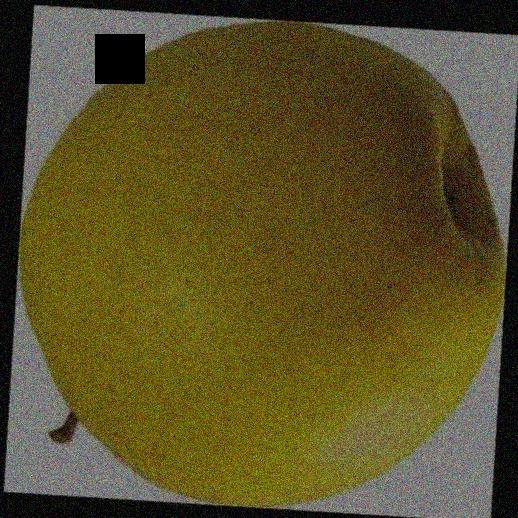green apple: (26, 20, 506, 505)
